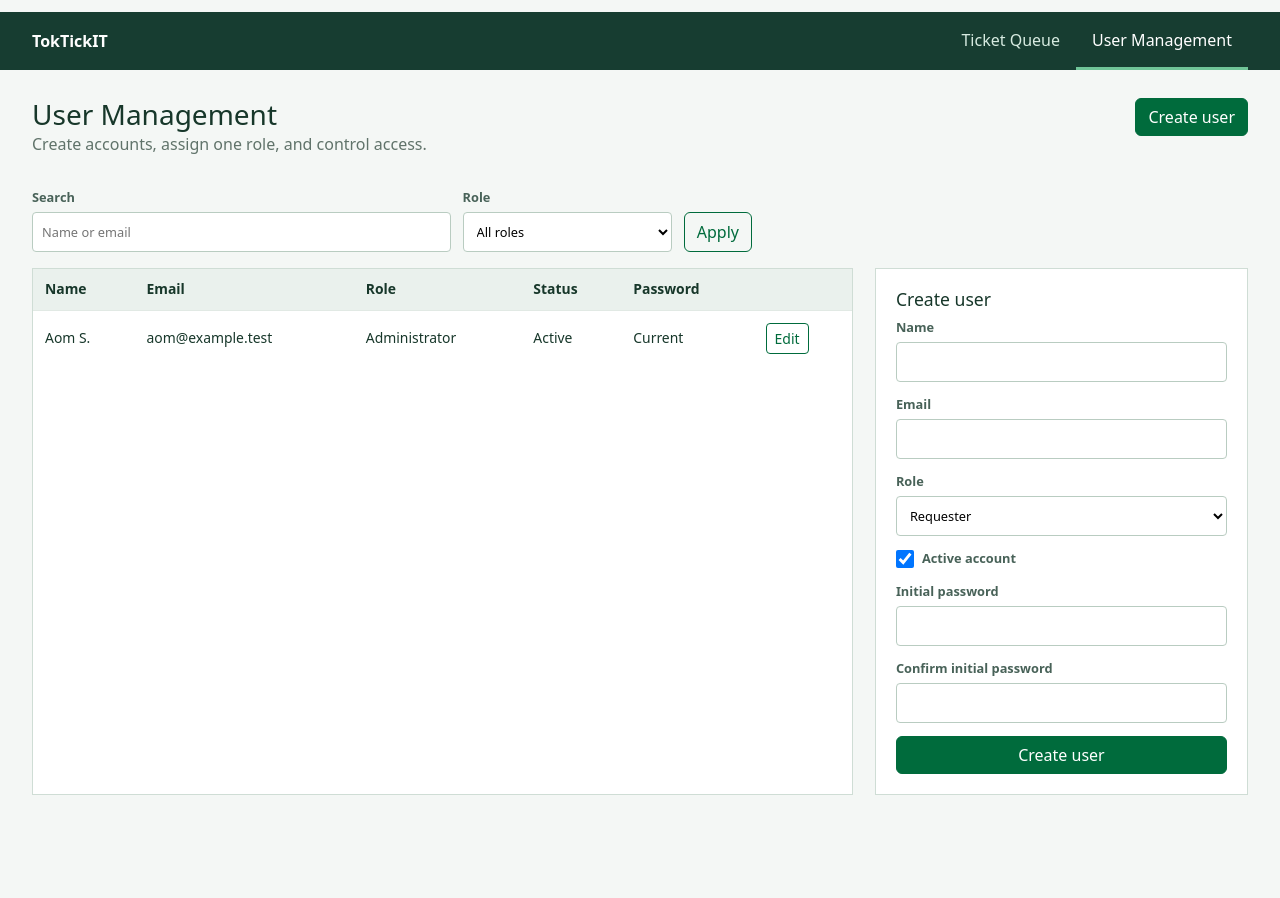
it: Administrator user management › shows the administrator safety conflict returned by the API
Click the button with aria-label "Edit Aom S.".
click(787, 338)  # box x1=766 y1=323 x2=809 y2=354
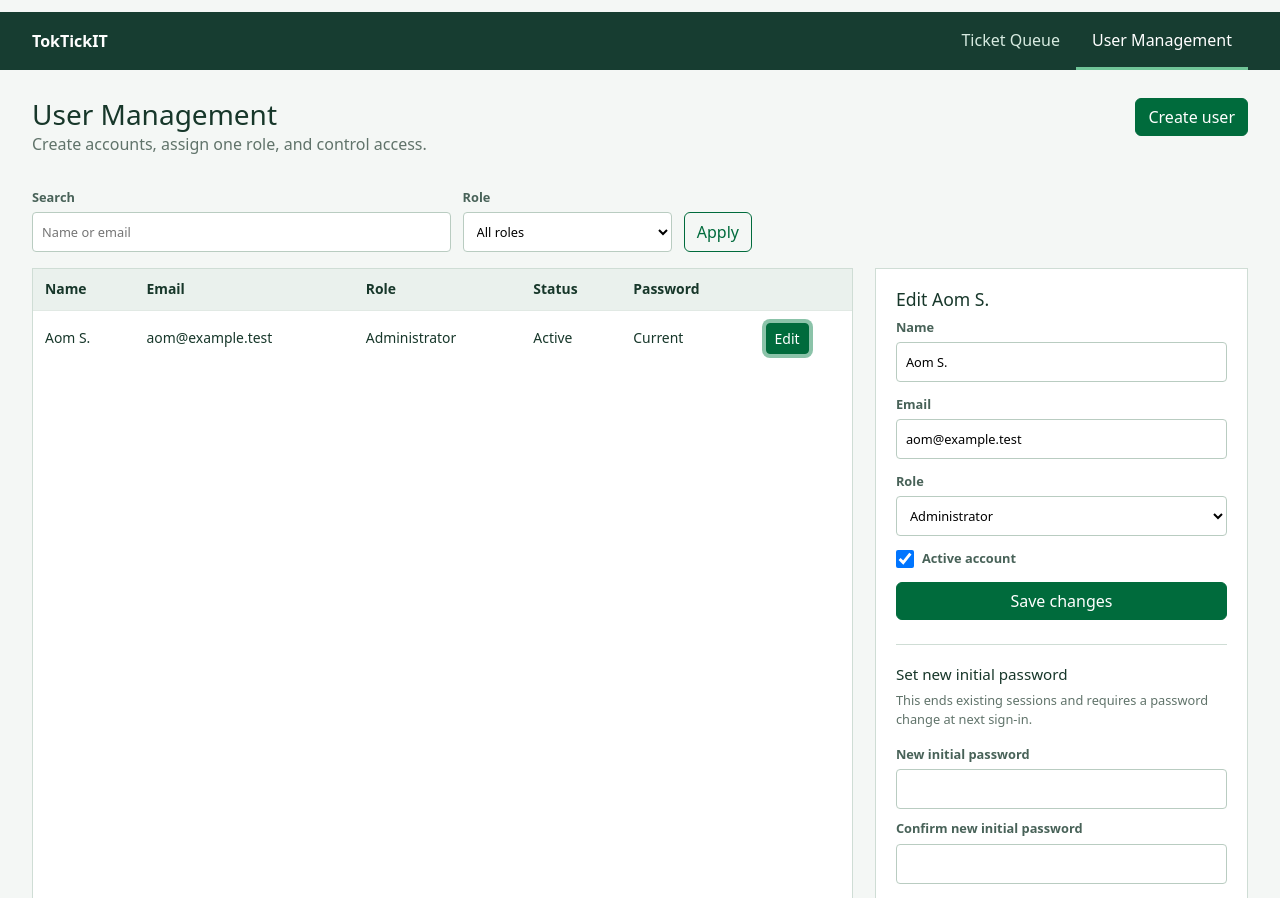
Select "IT Staff" in the dropdown named "User role" at coordinates (1061, 516), box x1=896 y1=496 x2=1227 y2=536
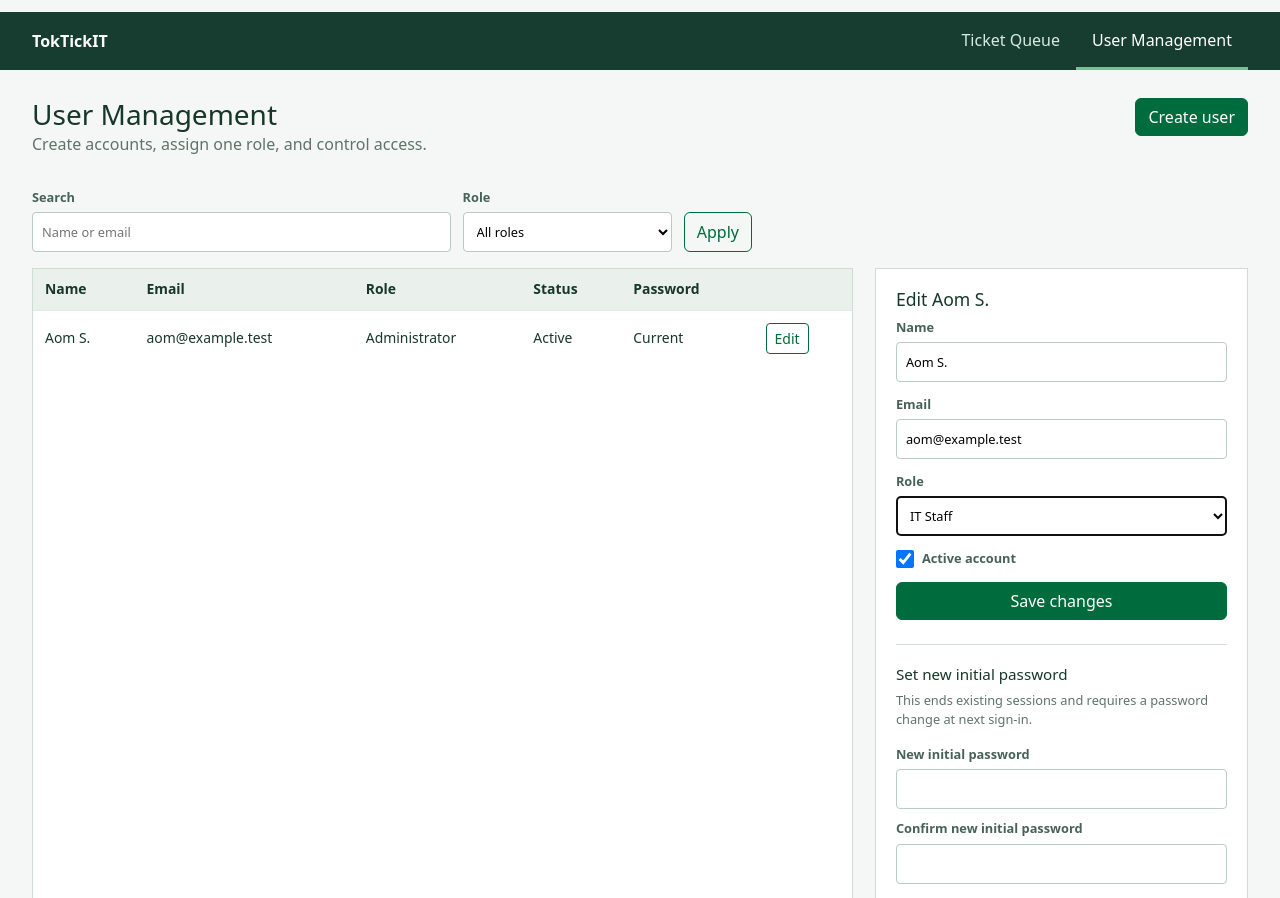
Click the button with aria-label "Submit user changes".
click(1061, 601)  # box x1=896 y1=582 x2=1227 y2=620
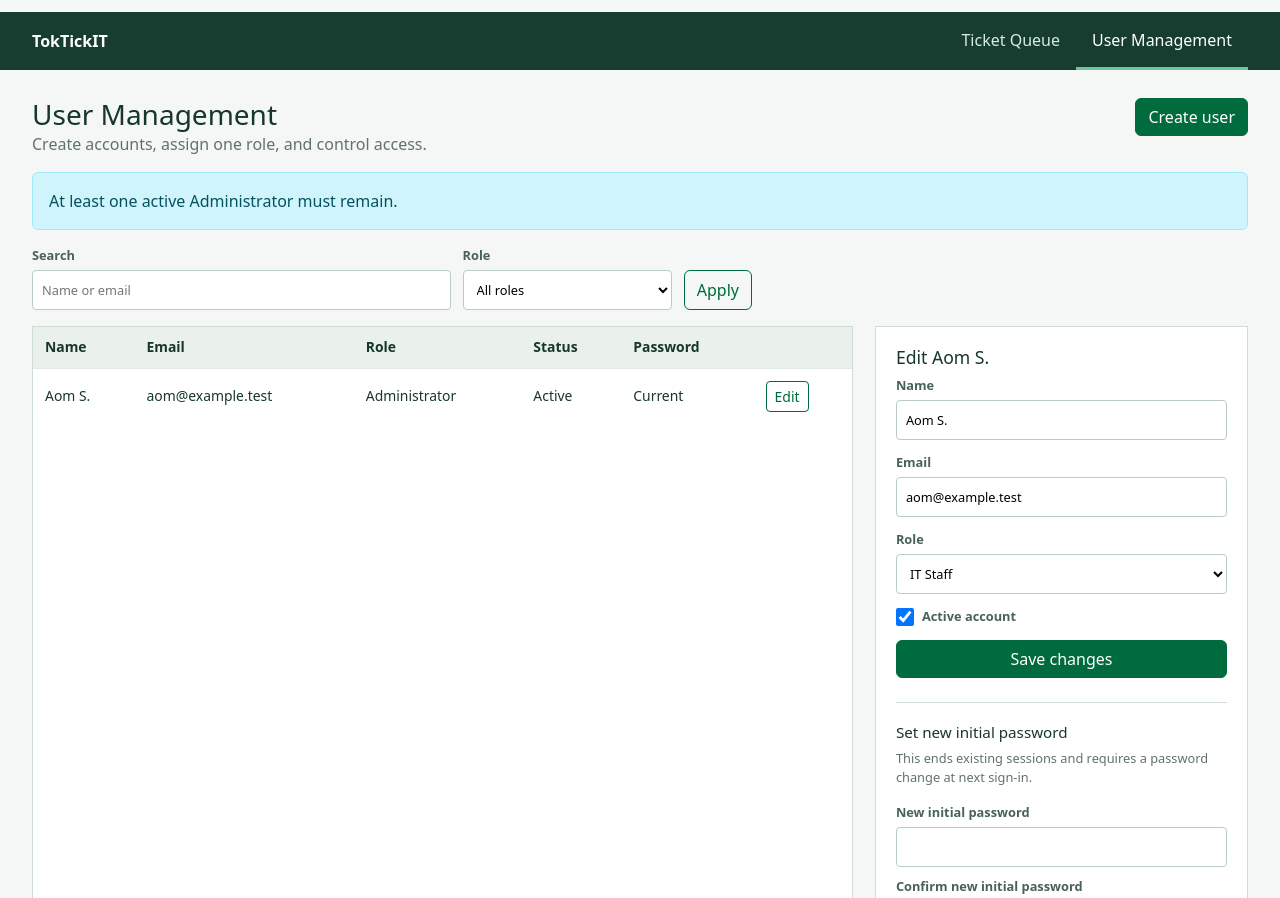
Check: the message reads "At least one active Administrator must remain.", box x1=49 y1=190 x2=398 y2=212
